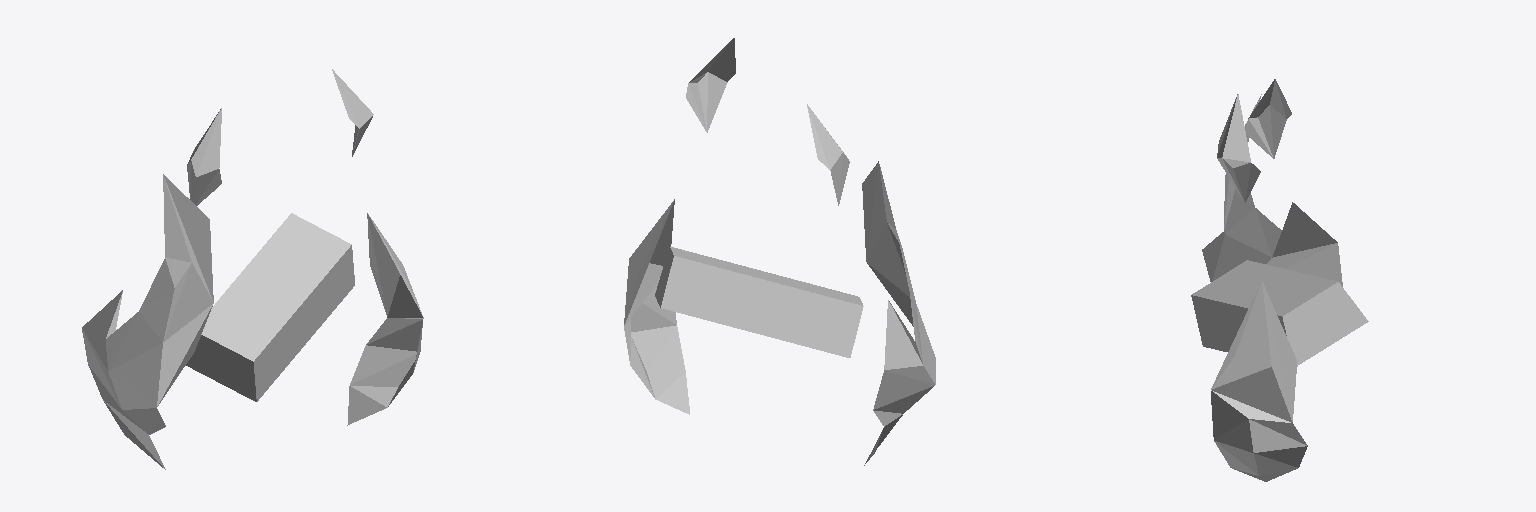
File: ingot.obj
3 renders of one model, left to right at view 1: azimuth 30°, elevation 25°; view 2: azimuth 150°, elevation 25°; view 3: azimuth 270°, elevation 25°, orthographic.
Parts seen in each view (by area): view 1: obj4, obj18, Ingot, obj16, CrystalCore, background, TrapezohedronBase1, soulSet, fireFront, obj6, obj19, CrystalSet (+8 smaller); view 2: obj1, Ingot, obj3, obj4, CrystalBase1, CrystalBase, obj19, background, obj20, fireFront, obj14, obj10 (+2 smaller); view 3: Ingot, obj4, obj21, obj12, obj11, obj18, obj19, CrystalBase1, CrystalBase, obj14, obj6, obj13 (+5 smaller).
Part boxes in pixels (x1,y1,x2,y2): obj4: (201, 213, 351, 361); obj18: (254, 245, 354, 401); Ingot: (82, 70, 422, 469); obj16: (186, 335, 256, 401); CrystalCore: (109, 343, 162, 409); background: (163, 174, 213, 301); TrapezohedronBase1: (157, 303, 213, 405); soulSet: (350, 345, 416, 386); fireFront: (163, 264, 213, 341); obj6: (106, 312, 162, 370); obj19: (368, 215, 399, 316); CrystalSet: (139, 259, 174, 341); obj1: (661, 256, 863, 357); Ingot: (624, 41, 935, 465); obj3: (631, 325, 685, 371); obj4: (670, 247, 862, 305); CrystalBase1: (884, 300, 922, 369); CrystalBase: (873, 366, 934, 409); obj19: (624, 199, 674, 324); background: (862, 161, 886, 261); obj20: (647, 372, 689, 414); fireFront: (867, 223, 909, 295); obj14: (631, 282, 676, 331); obj10: (807, 105, 842, 169); Ingot: (1202, 80, 1342, 481); obj4: (1192, 260, 1337, 316); obj21: (1283, 282, 1368, 365); obj12: (1211, 281, 1271, 388); obj11: (1211, 367, 1292, 422); obj18: (1191, 295, 1286, 351); obj19: (1262, 282, 1296, 421); CrystalBase1: (1272, 202, 1337, 257); CrystalBase: (1266, 243, 1342, 286); obj14: (1211, 391, 1253, 452); obj6: (1225, 208, 1281, 256); obj13: (1249, 419, 1306, 452).
Bounding box in the file's own units: 1.13 × 1.36 × 0.5749.